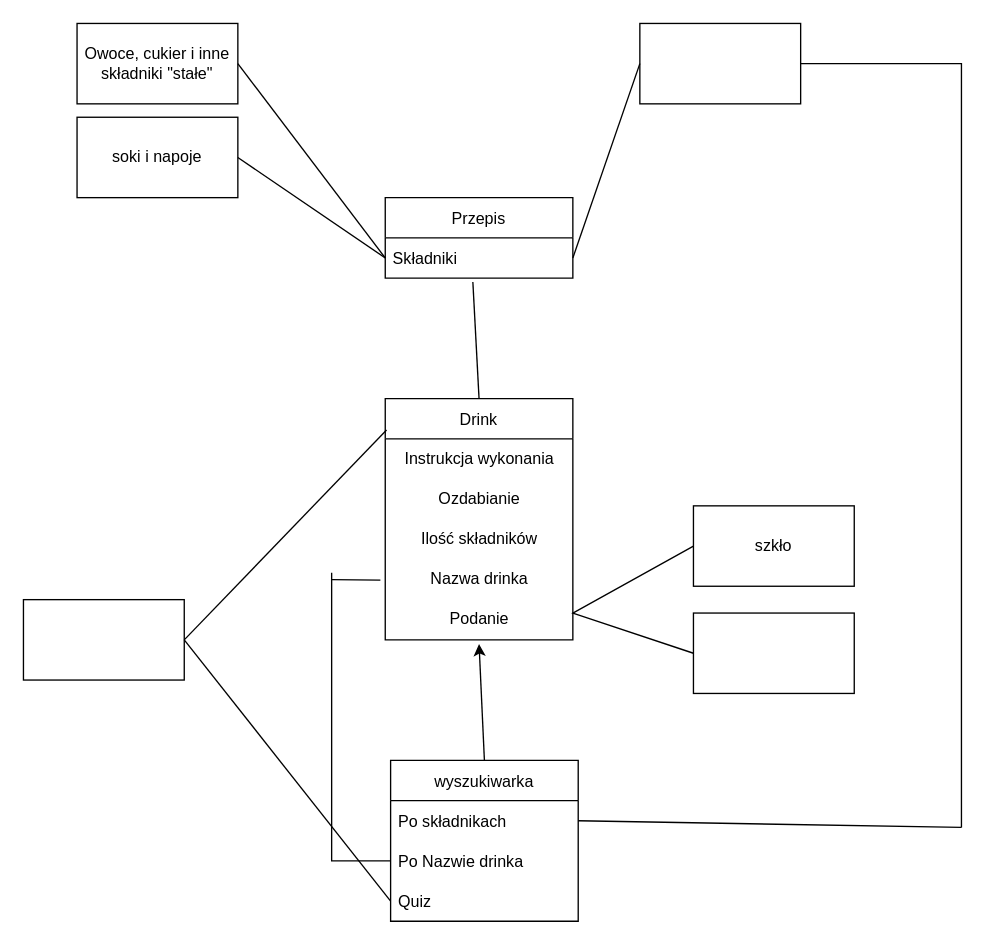
Image size: 986x945. Some labels were removed from this diagram. The shapes that lost their labels are listed below. From the top down, each one's centre as x and y in pixels, then its label:
At point 720,63: "alkohole".
At point 103,639: "smak".
At point 773,652: "typ lodu lub jego brak np kruszony itd".
